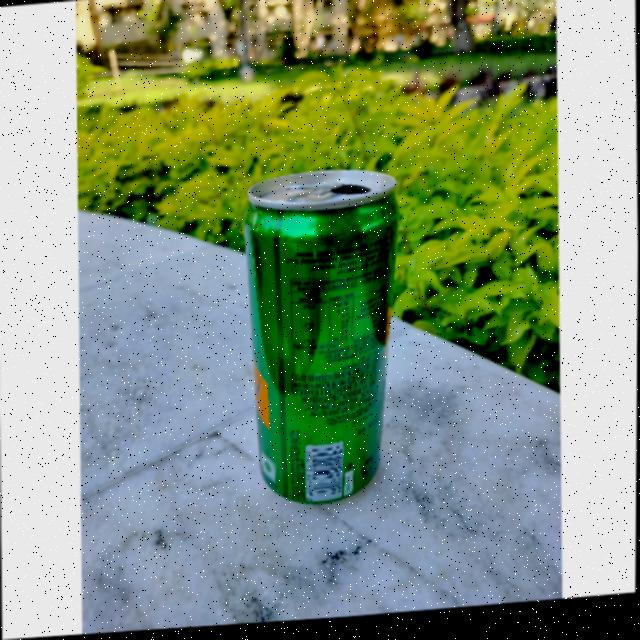Schweppes: (239, 164, 403, 516)
